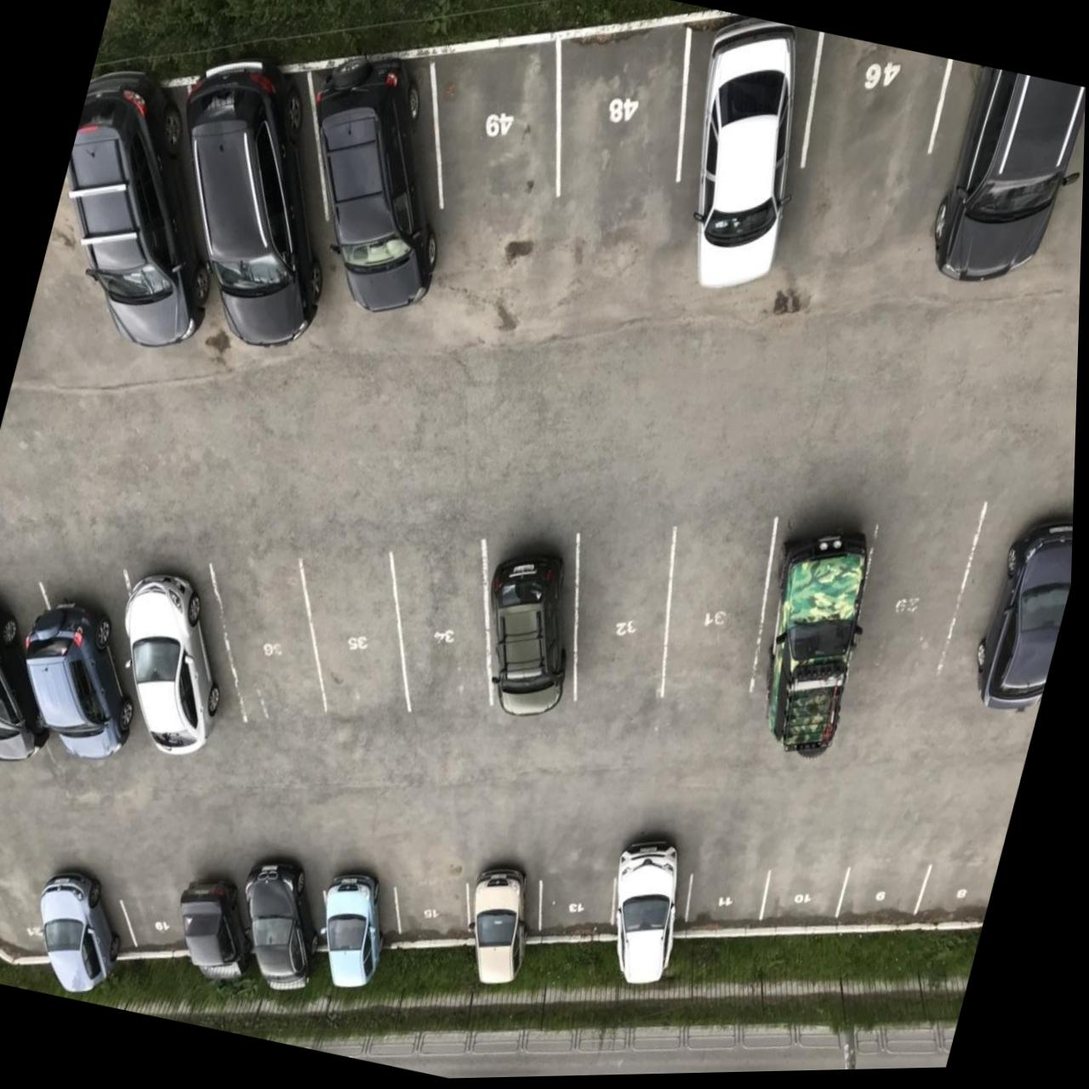cars: (186, 50, 347, 300), (59, 77, 224, 313), (298, 41, 459, 279), (899, 55, 1083, 259), (667, 8, 824, 230), (108, 529, 262, 744), (743, 490, 889, 710), (452, 523, 605, 725), (945, 482, 1074, 686), (36, 561, 167, 753), (19, 844, 148, 984), (590, 811, 712, 954), (0, 557, 87, 750), (299, 841, 414, 982), (167, 844, 279, 985), (231, 834, 342, 976), (442, 834, 553, 966)
empty: (531, 9, 700, 255), (416, 24, 583, 259), (789, 32, 951, 227), (194, 537, 348, 741), (274, 527, 430, 727), (639, 505, 791, 698), (372, 523, 521, 711), (549, 513, 693, 699), (846, 507, 989, 689), (379, 831, 489, 967), (527, 834, 634, 953), (829, 821, 943, 931), (104, 855, 211, 965), (677, 829, 780, 935), (926, 805, 1010, 926), (760, 840, 855, 933), (0, 856, 66, 978)
